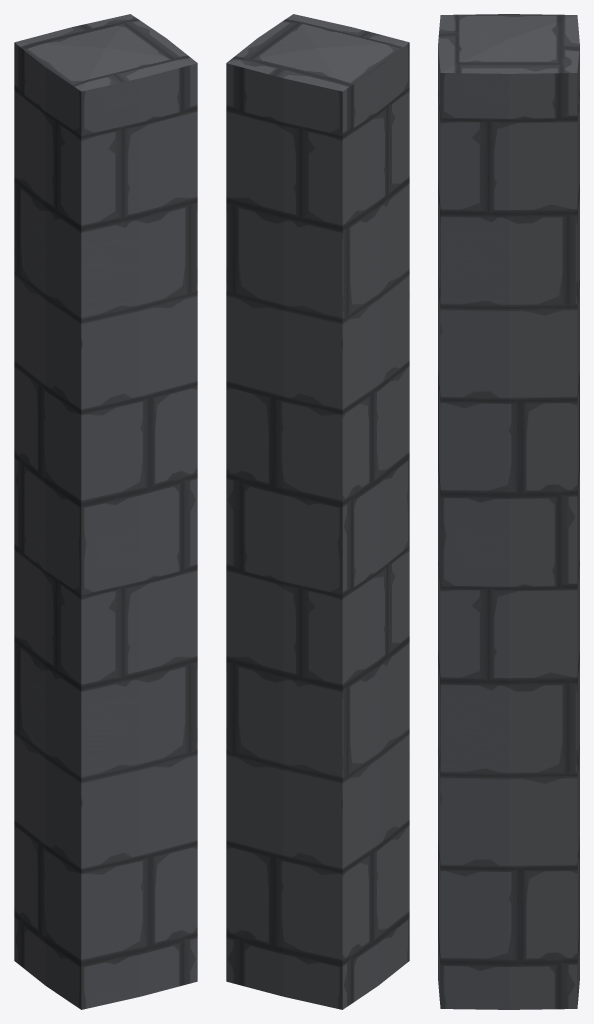
Rendered from castle_pillar.gltf.
3 renders of one model, left to right at view 1: azimuth 30°, elevation 25°; view 2: azimuth 150°, elevation 25°; view 3: azimuth 270°, elevation 25°, orthographic.
Parts seen in each view (by area): view 1: castle_pillar; view 2: castle_pillar; view 3: castle_pillar.
Part boxes in pixels (x1=…): castle_pillar: x1=14, y1=14, x2=197, y2=1009; castle_pillar: x1=226, y1=14, x2=409, y2=1009; castle_pillar: x1=438, y1=14, x2=579, y2=1009.
Bounding box in the file's own units: 0.6867 × 5.05 × 0.6866.
Materials: 1 (1 with a texture image).
